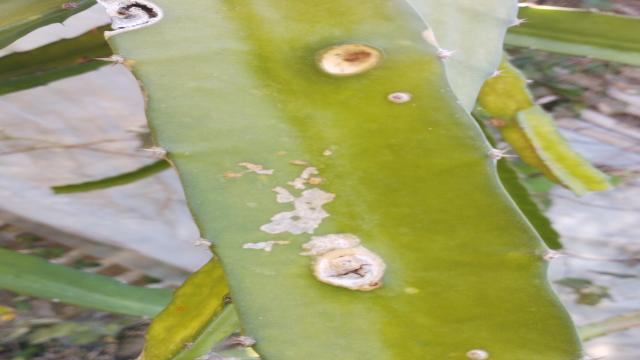stemcanker: (225, 129, 518, 360), (313, 41, 386, 79), (383, 87, 418, 108)
